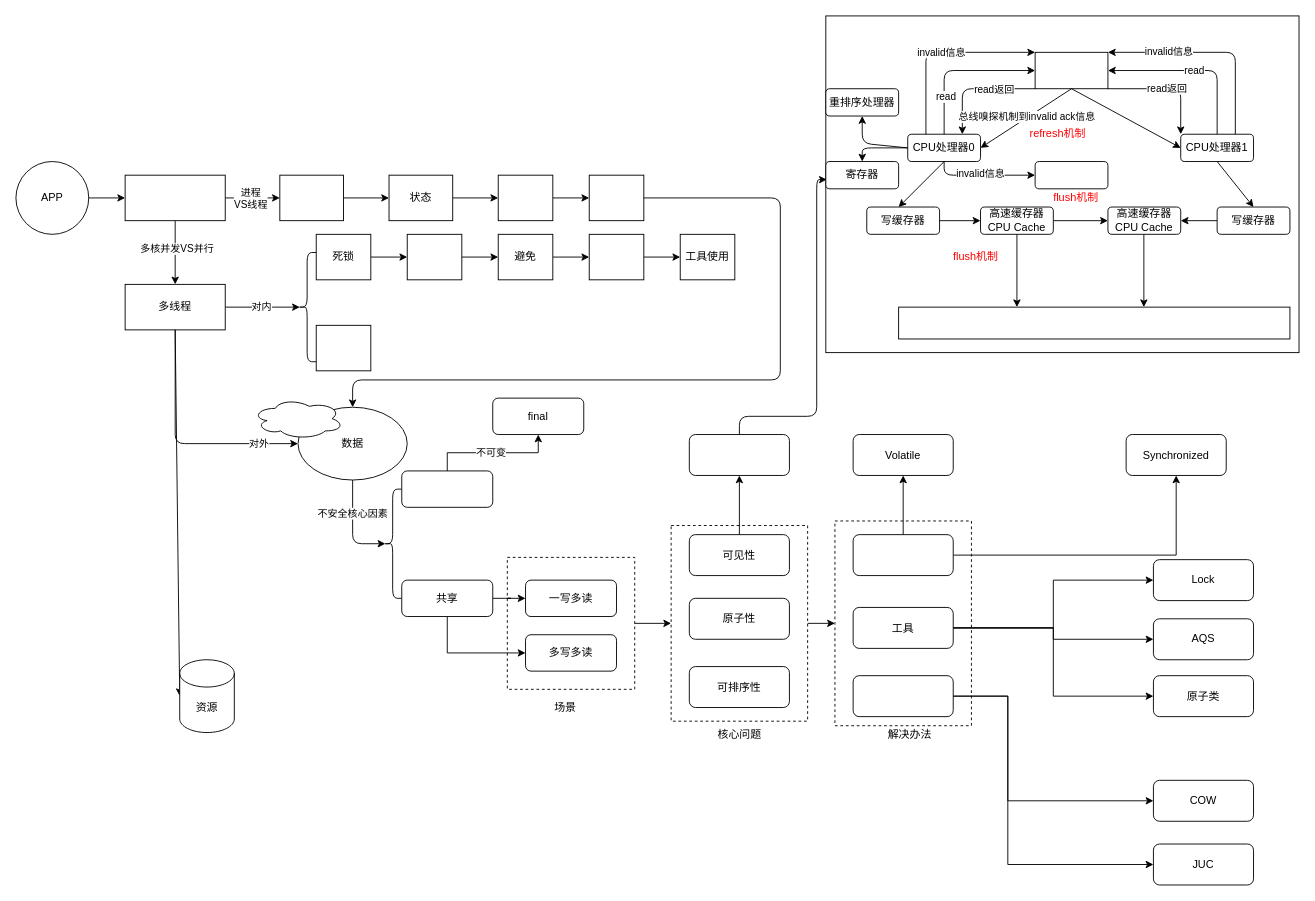
Some shapes in this 1315 by 901 pixel diagram are drawn without their labels. Here are the shapes that lost their labels. From the top down, the box of each, then its label:
(1034, 51, 1108, 89): 总线
(1034, 161, 1108, 189): 无效队列
(124, 174, 225, 221): 进程
(279, 174, 344, 221): 线程
(497, 174, 553, 221): 实现方式
(588, 174, 644, 221): API使用
(406, 233, 462, 280): 定义
(588, 233, 644, 280): 检测&排查
(898, 306, 1290, 339): 主内存
(315, 324, 371, 371): 活锁
(252, 397, 344, 439): 竞态条件
(688, 434, 789, 475): JMM
(401, 470, 493, 507): 可变
(852, 534, 953, 576): 机制
(852, 675, 953, 717): 容器
